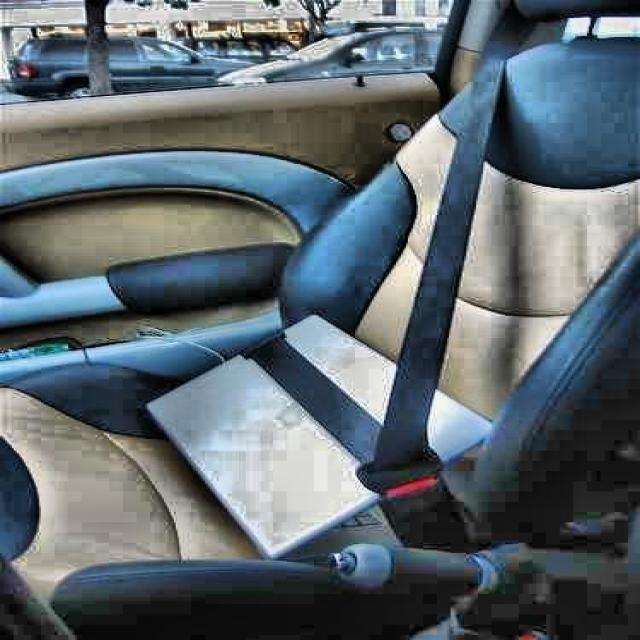car: (217, 23, 444, 86), (9, 35, 220, 98)
